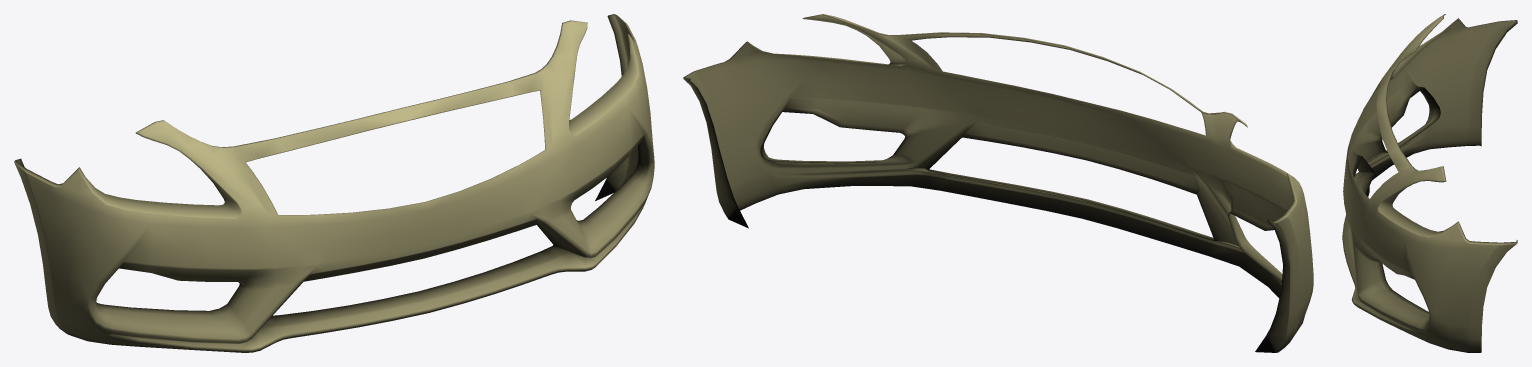
The model's file is G37_FB_04_Duco.fbx.
The picture shows the model from 3 angles, left to right: view 1: azimuth 30°, elevation 25°; view 2: azimuth 150°, elevation 25°; view 3: azimuth 270°, elevation 25°; orthographic projection. The views are drawn at different scales.
Visible parts, largest first — view 1: G37_FB_04_Duco; view 2: G37_FB_04_Duco; view 3: G37_FB_04_Duco.
Part boxes in pixels (left/top/right/bottom): G37_FB_04_Duco: left=14, top=14, right=654, bottom=352; G37_FB_04_Duco: left=683, top=14, right=1313, bottom=352; G37_FB_04_Duco: left=1342, top=14, right=1517, bottom=352.
Size of the model in its own units: 182 by 60.81 by 60.34.
